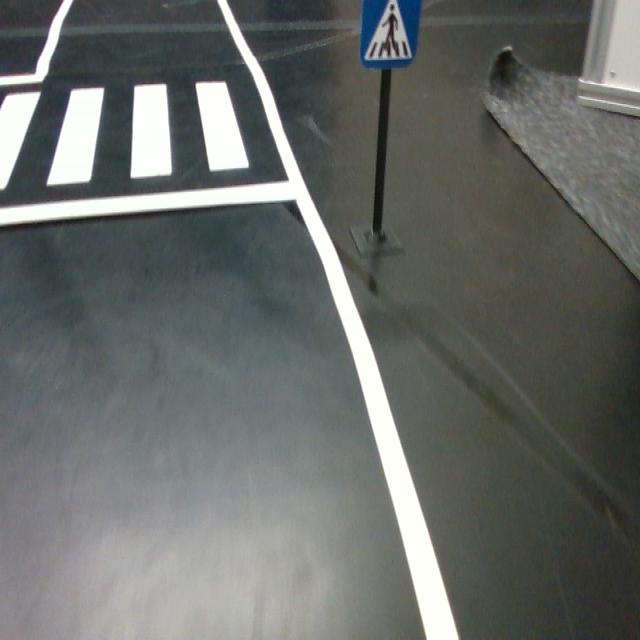crosswalk-sign: (359, 0, 422, 69)
